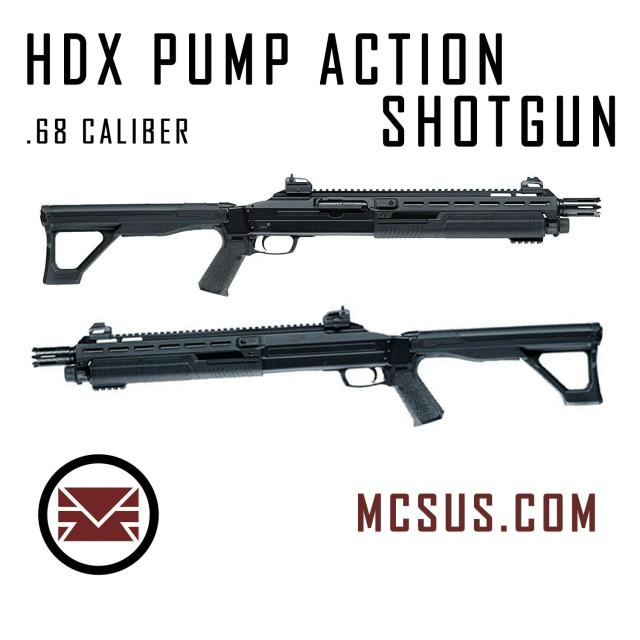ShotGun: (32, 305, 604, 427), (38, 179, 603, 298)
